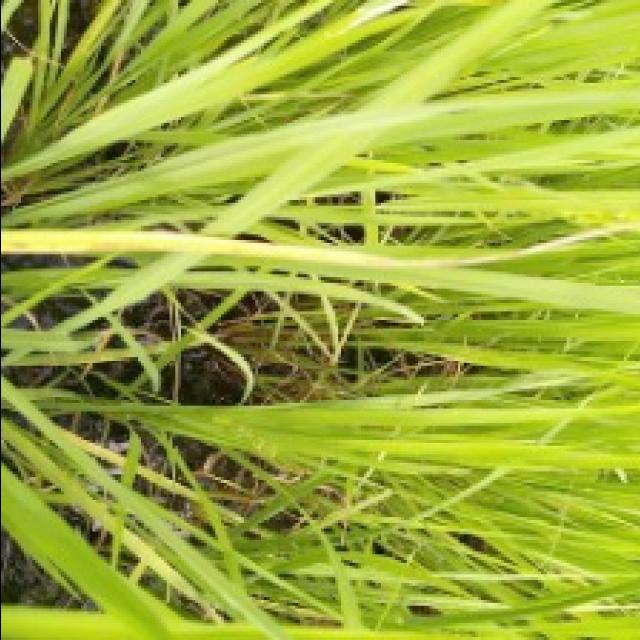Unhealthy: (212, 227, 616, 269)
